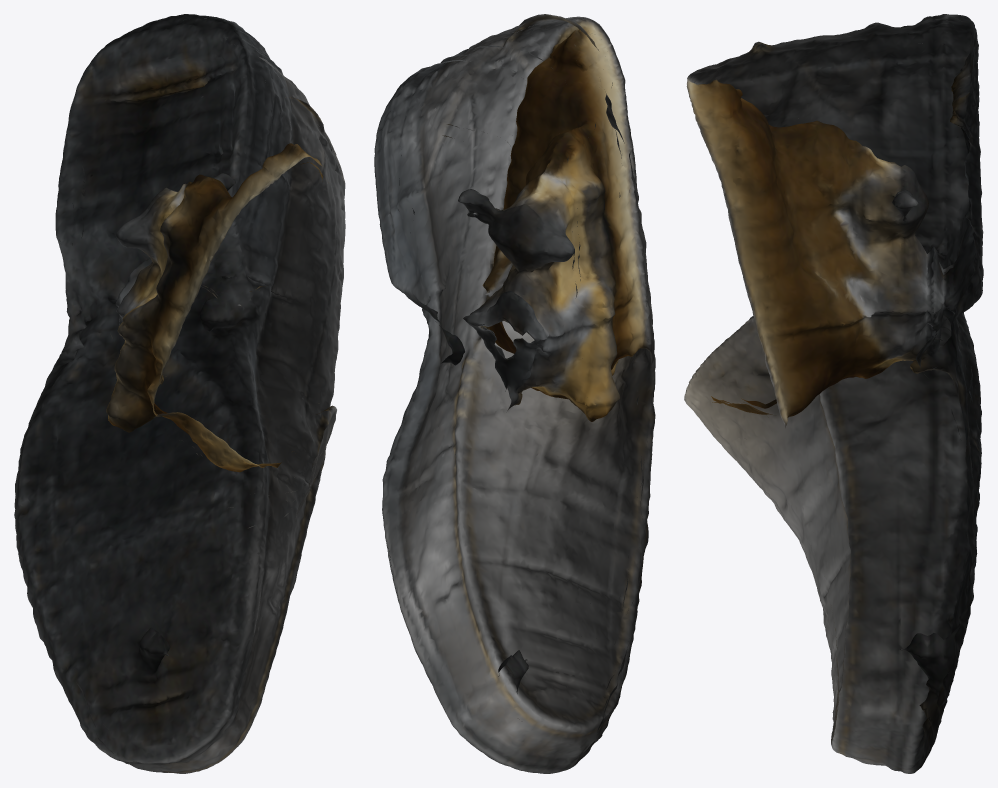
Rendered from leather.glb.
3 renders of one model, left to right at view 1: azimuth 30°, elevation 25°; view 2: azimuth 150°, elevation 25°; view 3: azimuth 270°, elevation 25°, orthographic. The views are drawn at different scales.
Bounding box in the file's own units: 0.3631 × 1 × 0.3612.
